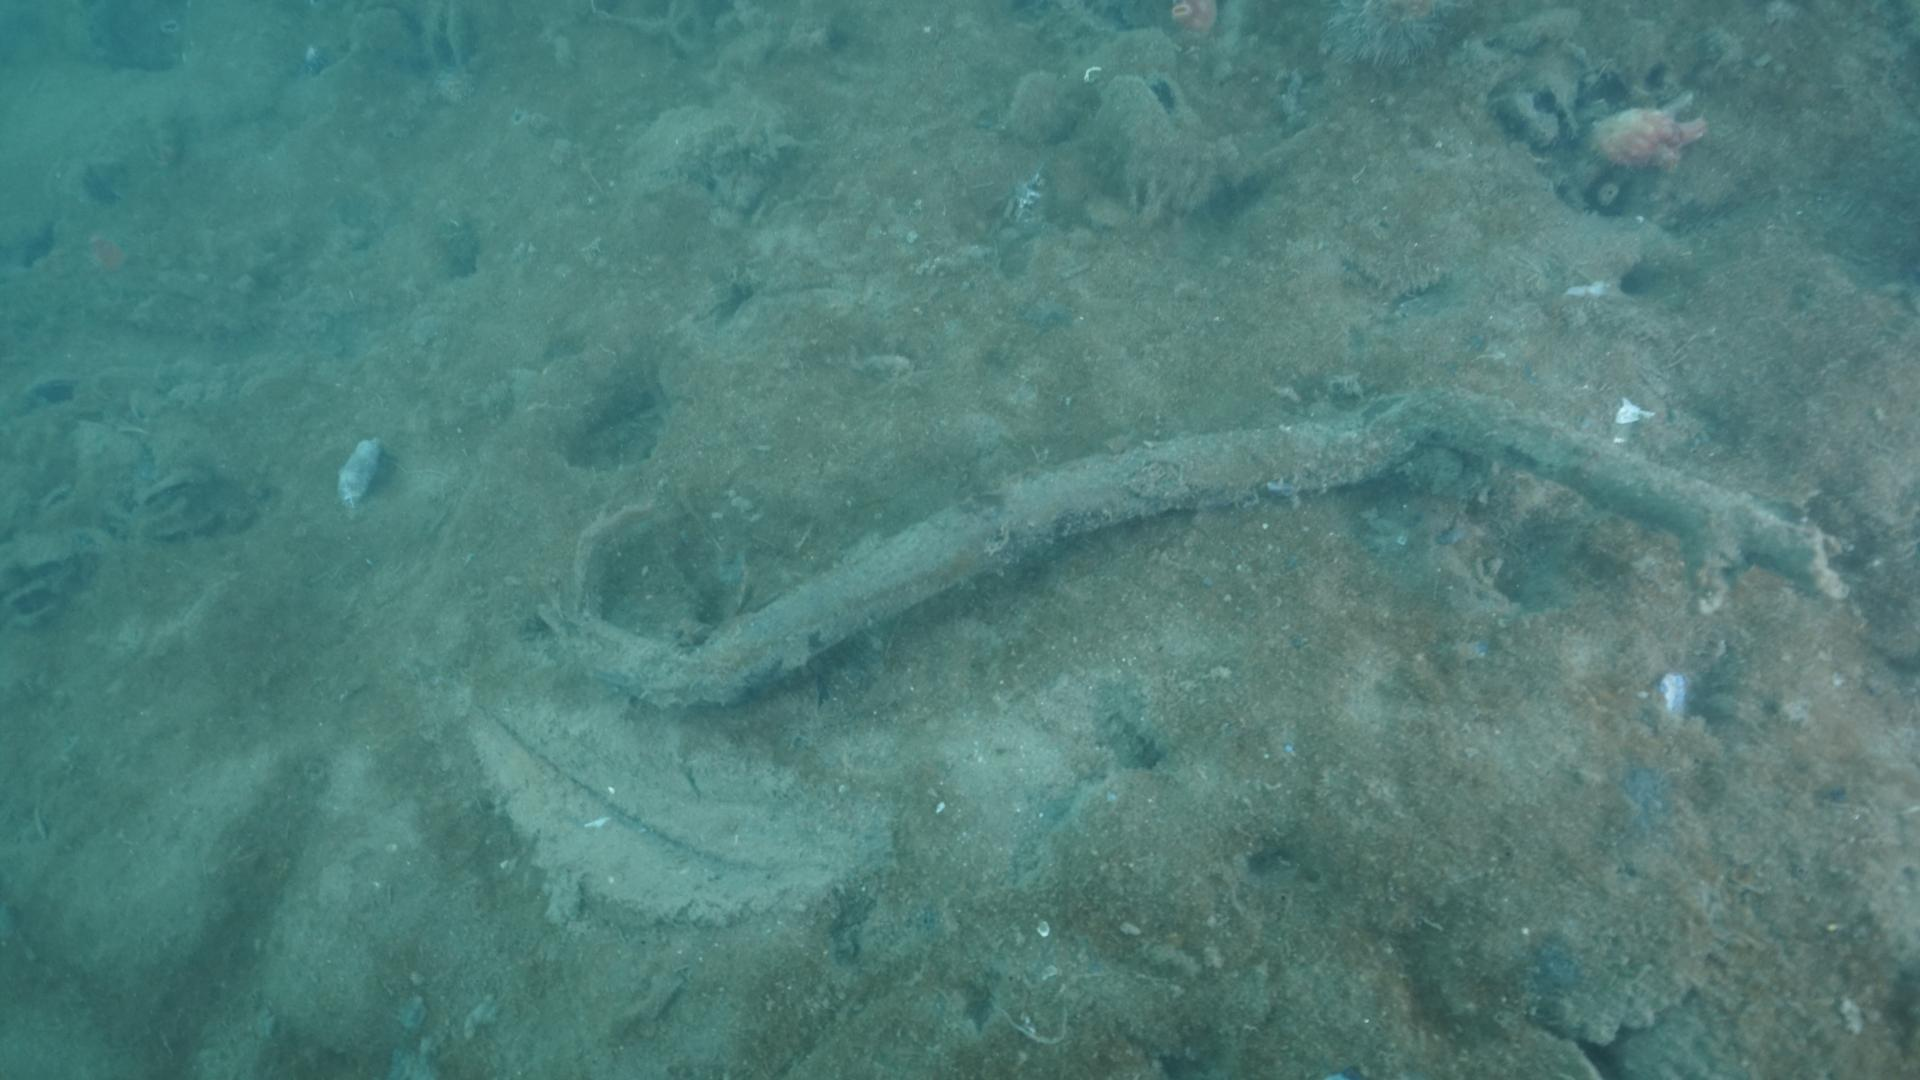wood: (549, 380, 1844, 719)
